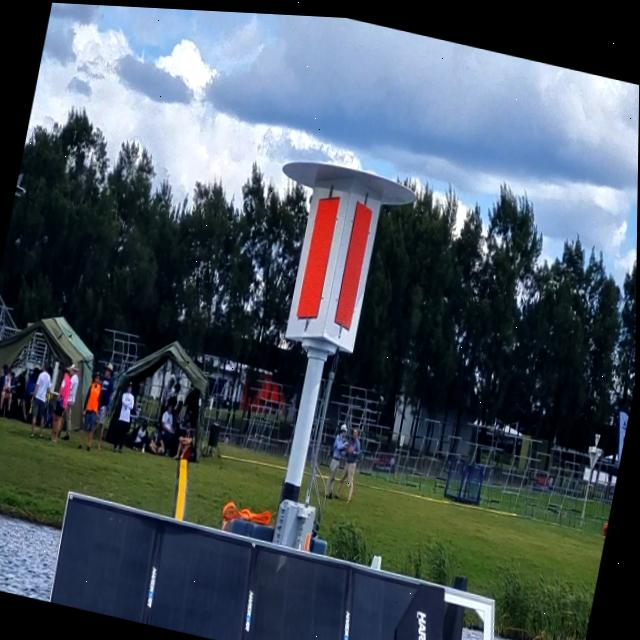led: (291, 181, 347, 330), (328, 189, 378, 340)
